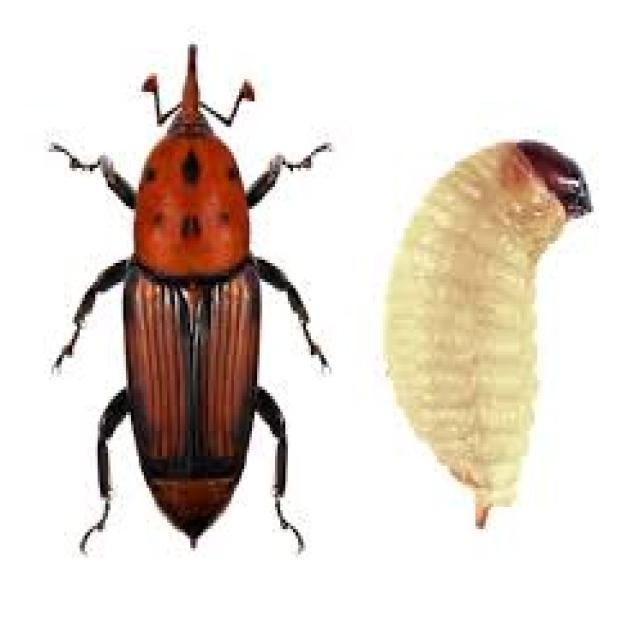Red-palm-weevil: (43, 34, 343, 577)
